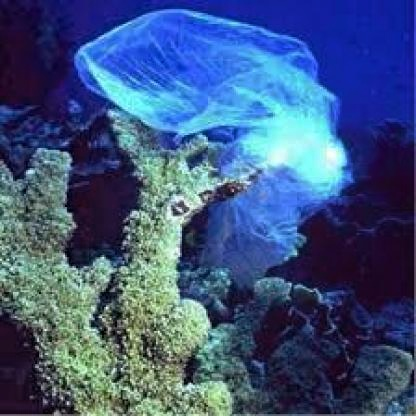pbag: (72, 7, 355, 294)
